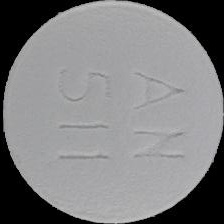50090-1950: (0, 0, 224, 224)
